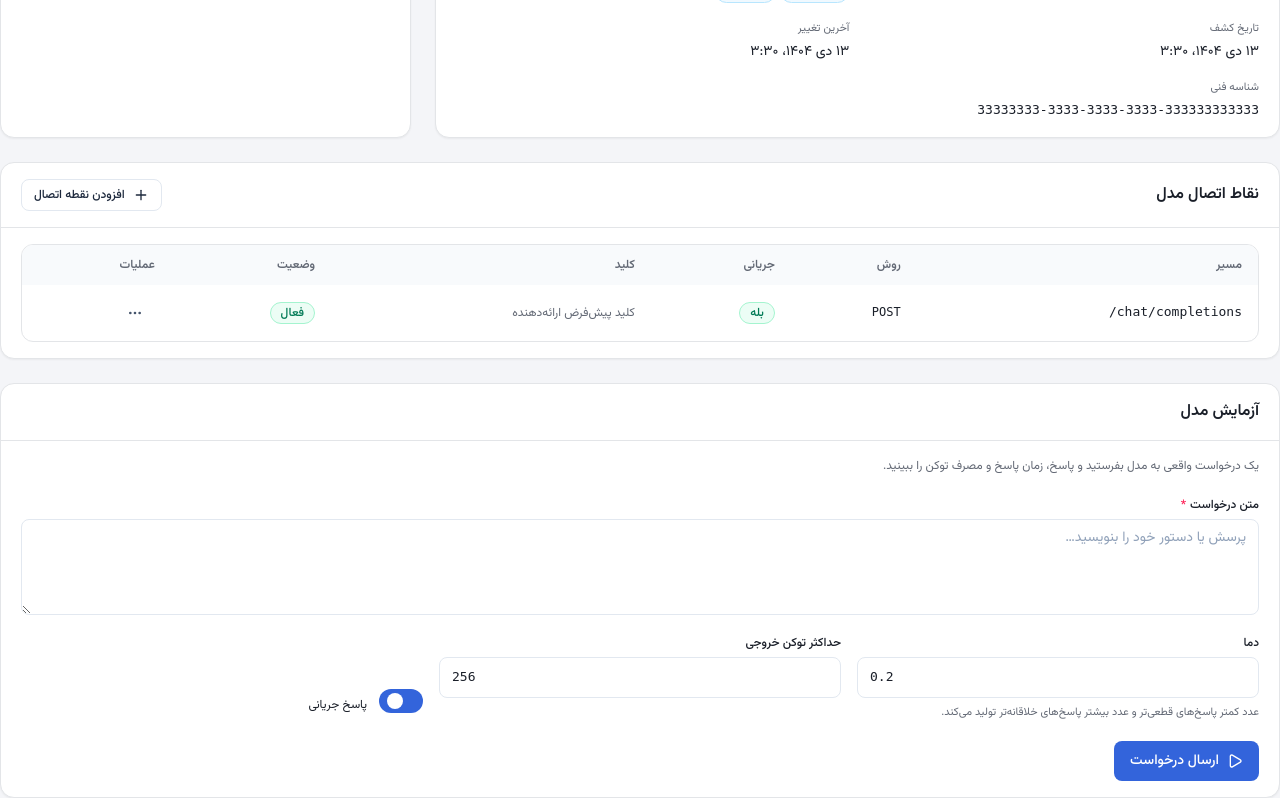
Scenario: model playground › sends a prompt and shows the answer with real token counts
The image size is (1280, 798).
(page scrolled)
Step 1. Type "سلام، خودت را معرفی کن" into the text box labelled "متن درخواست*" → (640, 567), box [21,519,1259,615]
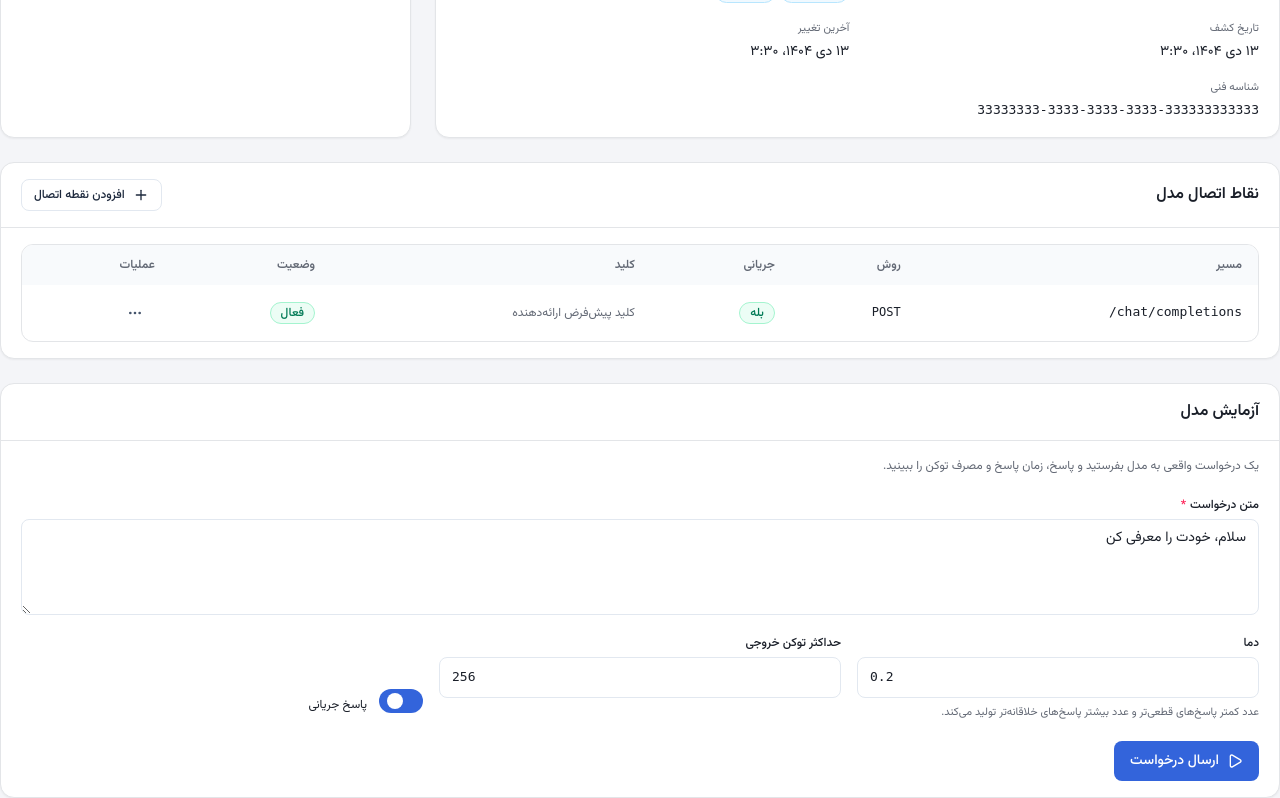
// Streaming is on by default: switch it off so the JSON path is exercised.
Step 2. Click the switch named "پاسخ جریانی" → (401, 702), box [379,690,423,714]
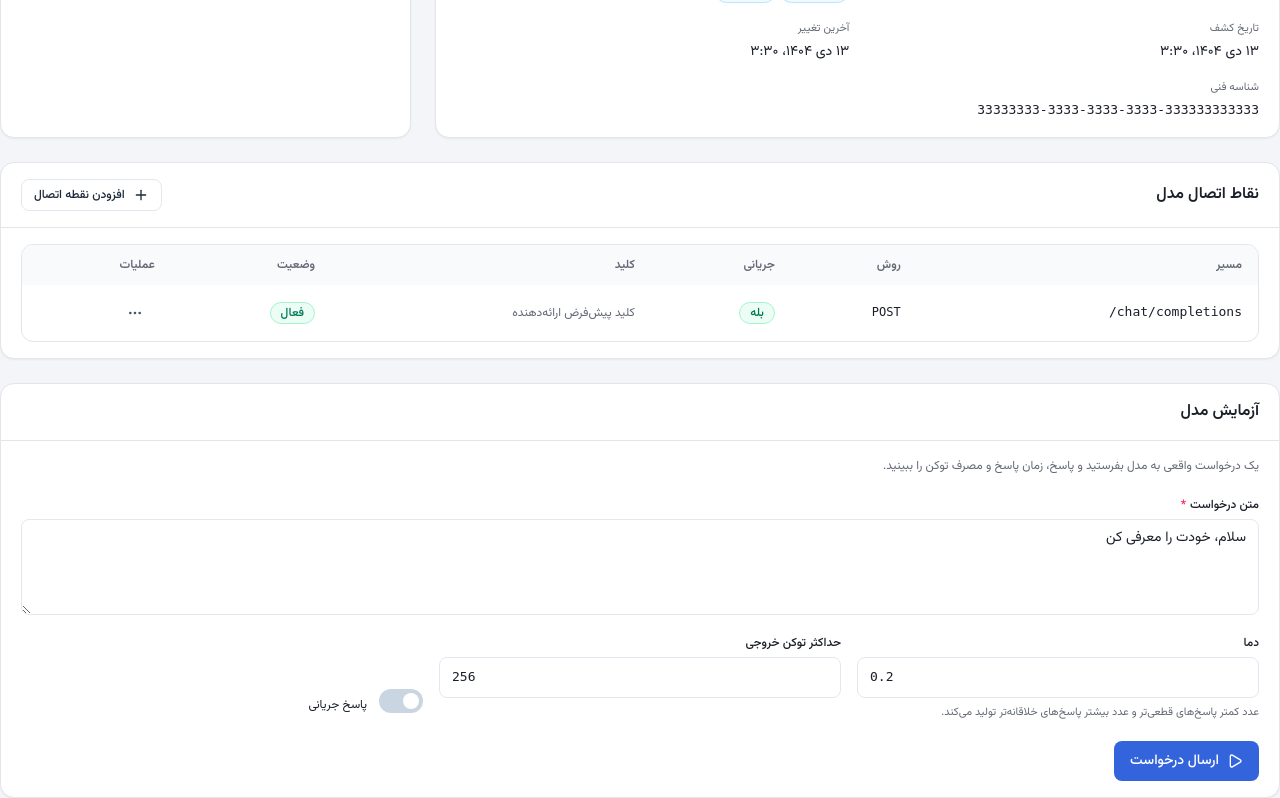
Step 3. Click the button "ارسال درخواست" → (1186, 762), box [1114,742,1259,782]
(page scrolled)
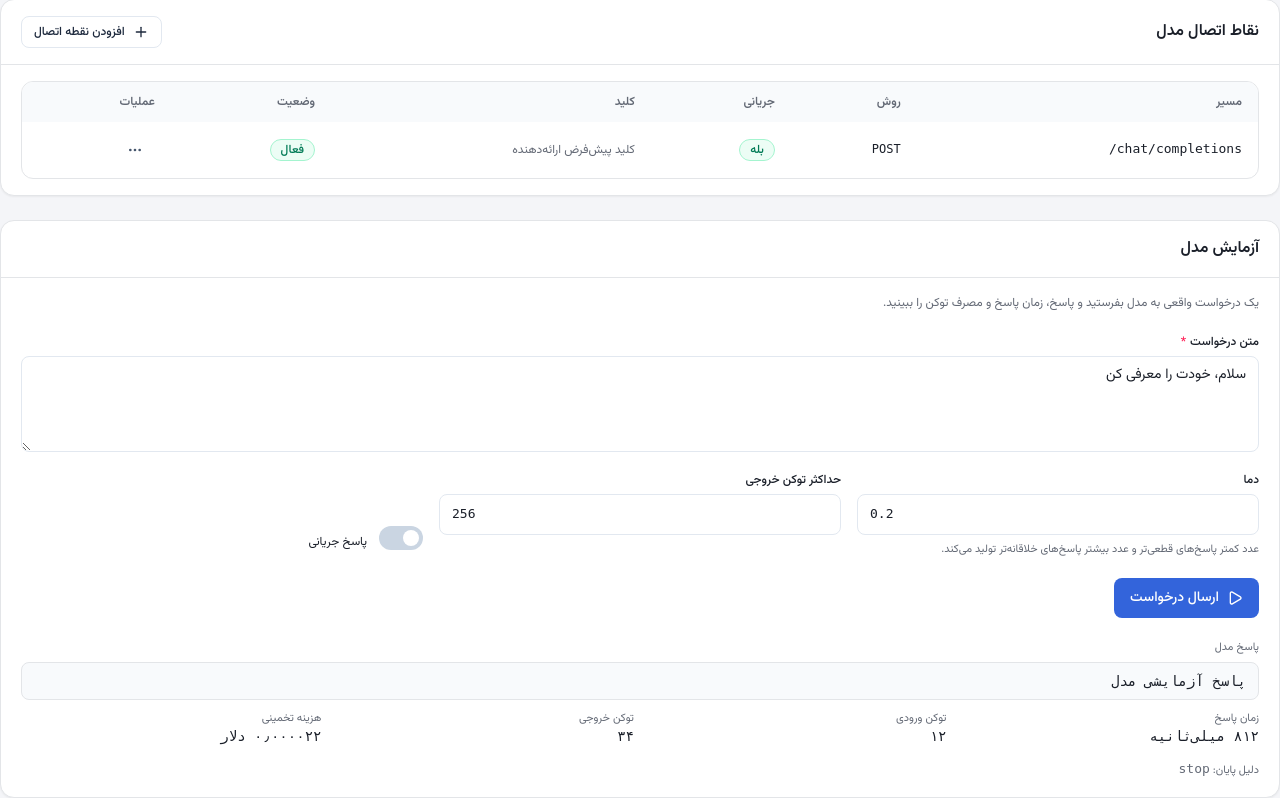
Check: the text "پاسخ آزمایشی مدل" is shown, box [21,662,1259,700]
Check: the text "۱۲" is shown, box [930,728,946,744]
Check: the text "۳۴" is shown, box [617,728,634,744]
